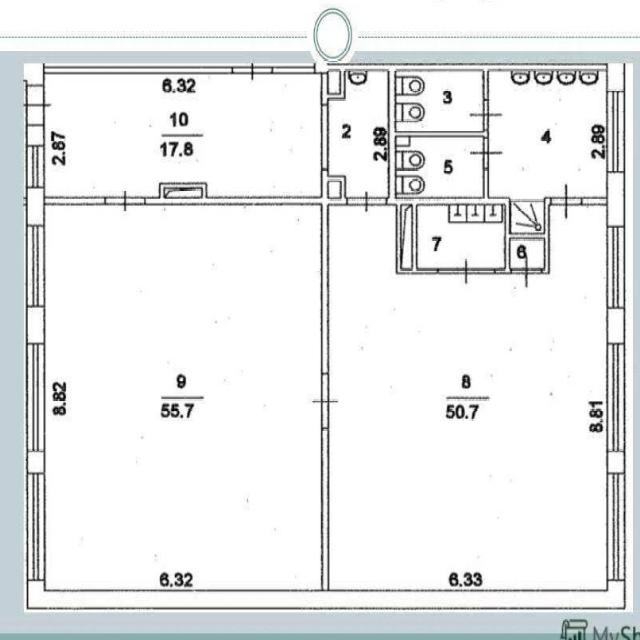Bathrooms: (490, 71, 605, 195), (329, 71, 388, 196), (418, 207, 504, 267), (396, 137, 483, 196), (397, 71, 483, 129), (512, 199, 543, 231)
Corridors: (45, 75, 321, 195), (511, 240, 544, 268)
Doors: (437, 256, 495, 285), (311, 373, 340, 429), (551, 183, 583, 220), (23, 87, 52, 125), (468, 138, 503, 169), (469, 99, 503, 130), (105, 187, 146, 212), (511, 258, 542, 289), (347, 190, 387, 212), (232, 61, 273, 82), (321, 105, 329, 169)
LBwalls: (27, 581, 626, 610), (606, 174, 625, 225), (26, 307, 46, 344), (27, 189, 45, 225), (606, 310, 625, 344), (606, 64, 625, 90), (24, 64, 44, 85), (27, 450, 45, 472), (606, 451, 625, 471), (27, 125, 45, 145)
Offices: (330, 206, 606, 589), (45, 206, 321, 589)
Walls: (272, 63, 607, 275), (145, 170, 347, 373), (45, 66, 233, 75), (321, 428, 329, 590), (46, 196, 105, 206), (582, 196, 606, 206)
Windows: (26, 473, 46, 581), (606, 472, 625, 580), (606, 344, 625, 451), (26, 344, 45, 451), (606, 90, 625, 173), (606, 226, 625, 309), (26, 225, 45, 307), (26, 145, 45, 188)
